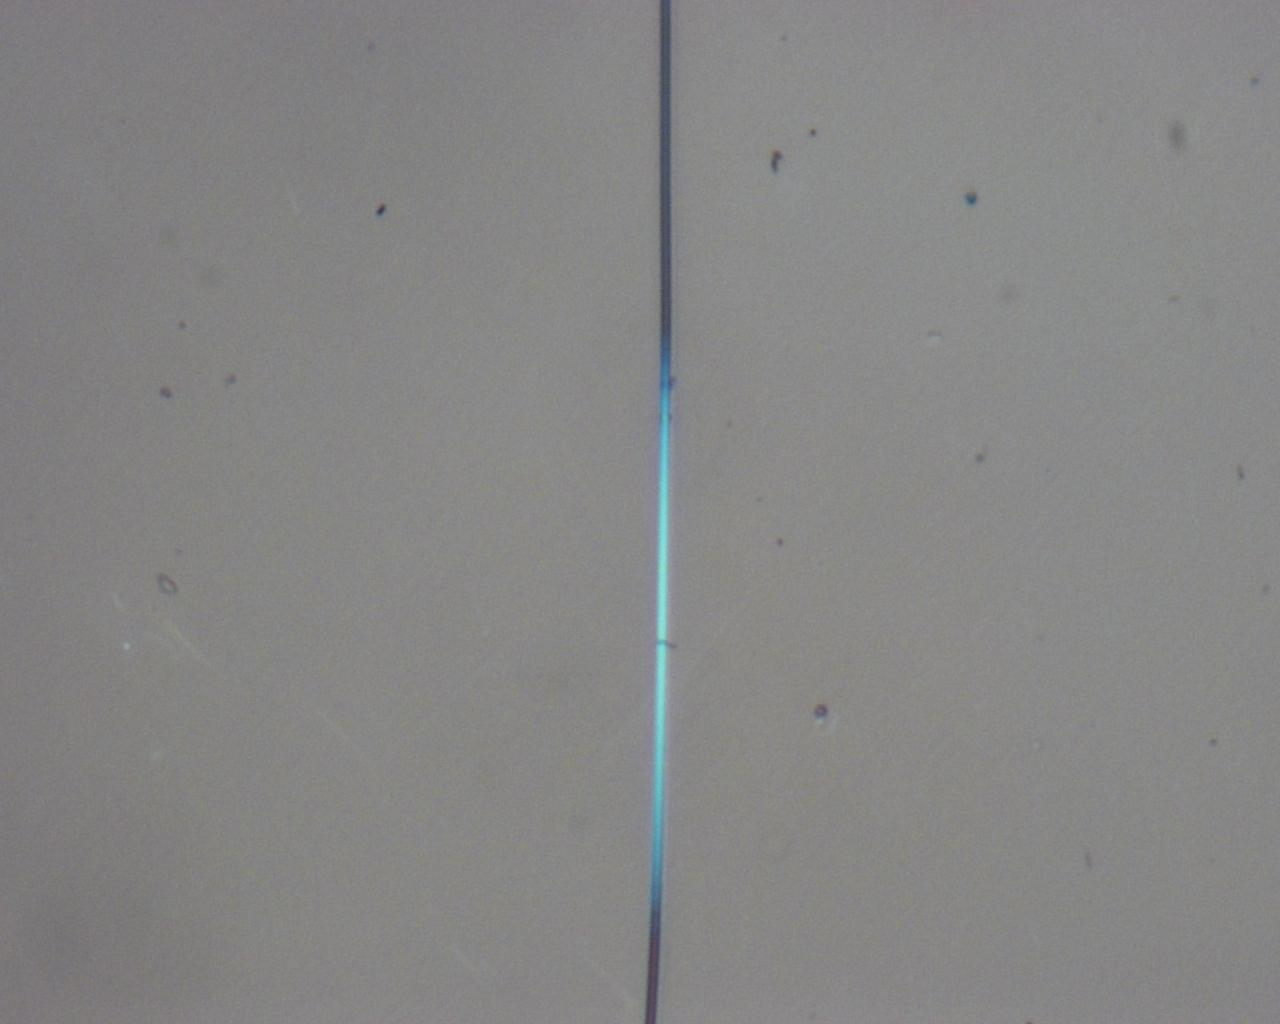fiber: (647, 0, 672, 1023)
